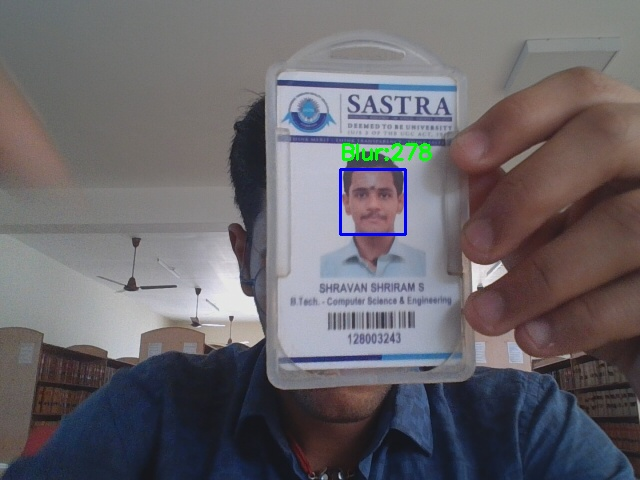fake: (340, 169, 405, 234)
